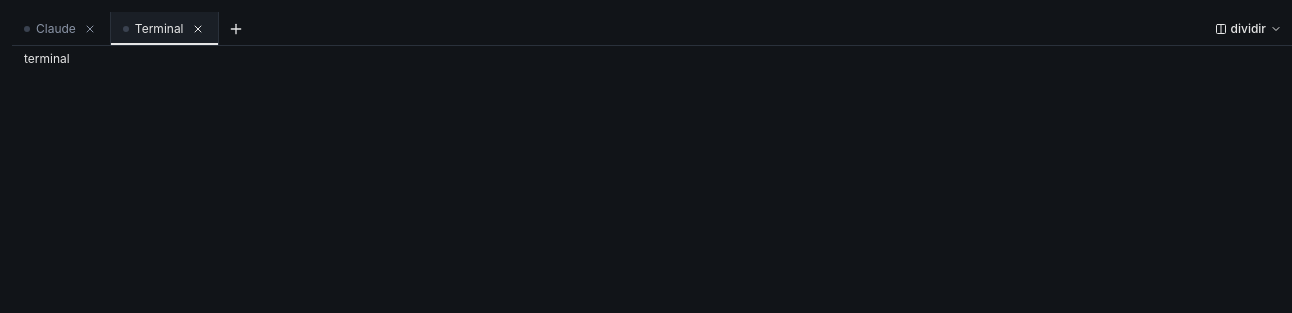
Scenario: a tab's X closes it and its terminal; the agent's run keeps going, the terminal sleeps under the default closeTerminalTab; the last one closed leaves the empty
Click the button named "Fechar Terminal" at x=198, y=28, box [190,20,206,36]
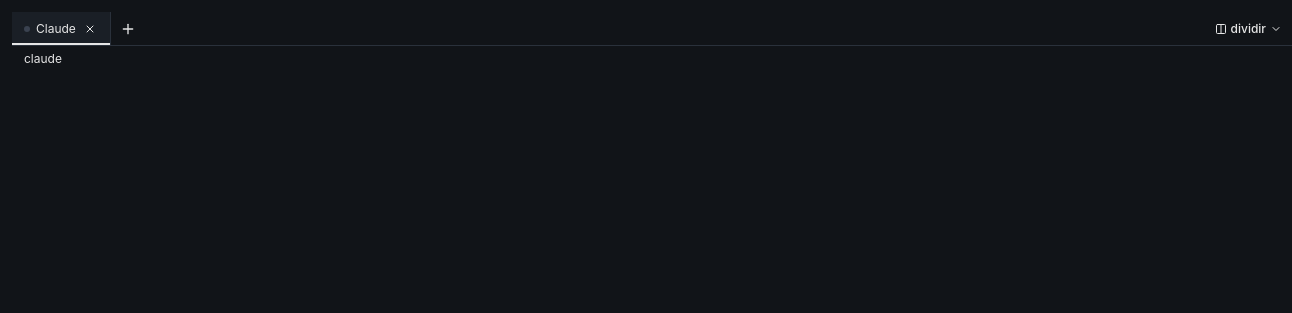
Click the button named "Fechar Claude" at x=90, y=28, box [82,20,98,36]
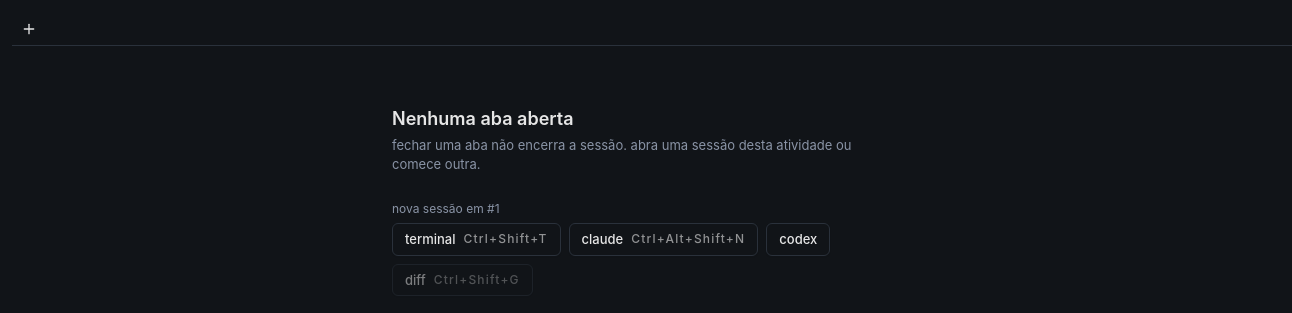
Now the heading "Nenhuma aba aberta" is shown, box [392,108,574,129]
